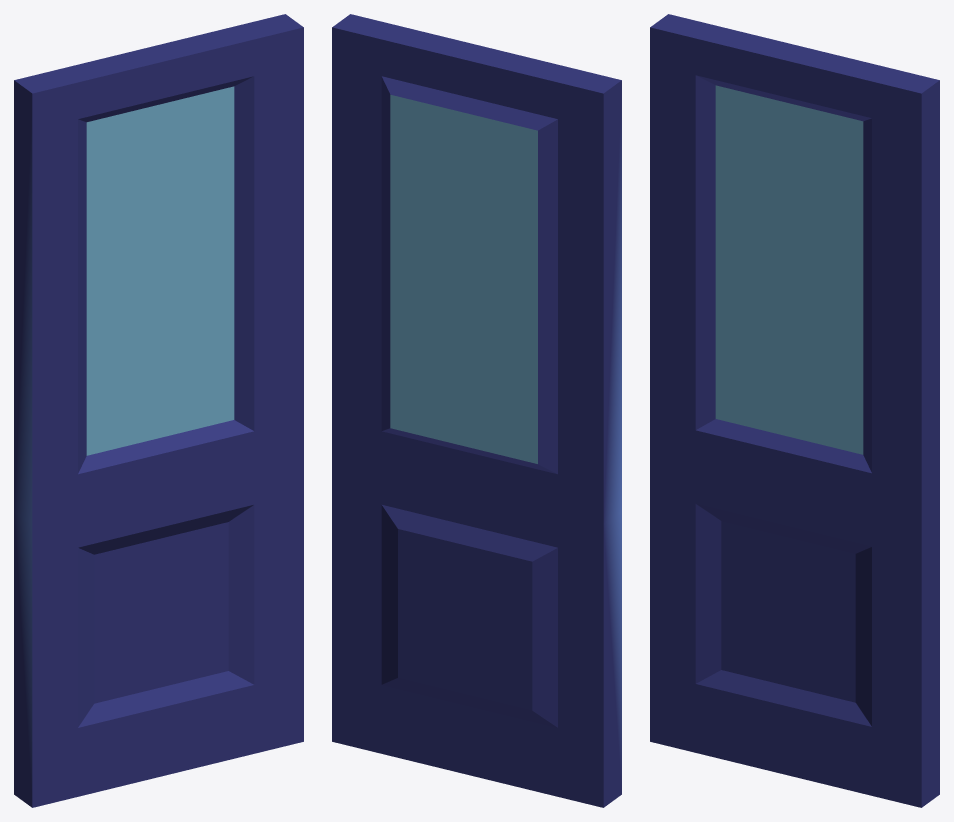
File: DoorB_Model.fbx
The picture shows the model from 3 angles, left to right: view 1: azimuth 30°, elevation 25°; view 2: azimuth 150°, elevation 25°; view 3: azimuth 330°, elevation 25°; orthographic projection.
Visible parts, largest first — view 1: DoorB; view 2: DoorB; view 3: DoorB.
Boxes of the visible parts, x1,y1,x2,y2 form: DoorB: (14, 14, 303, 807); DoorB: (332, 14, 621, 807); DoorB: (650, 14, 939, 807).
Size of the model in its own units: 1.2 by 3.02 by 0.1835.
